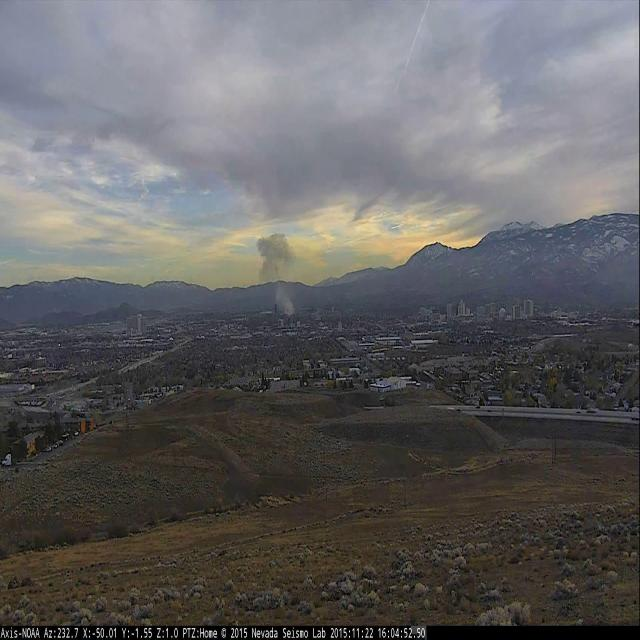smoke: (254, 226, 300, 318)
